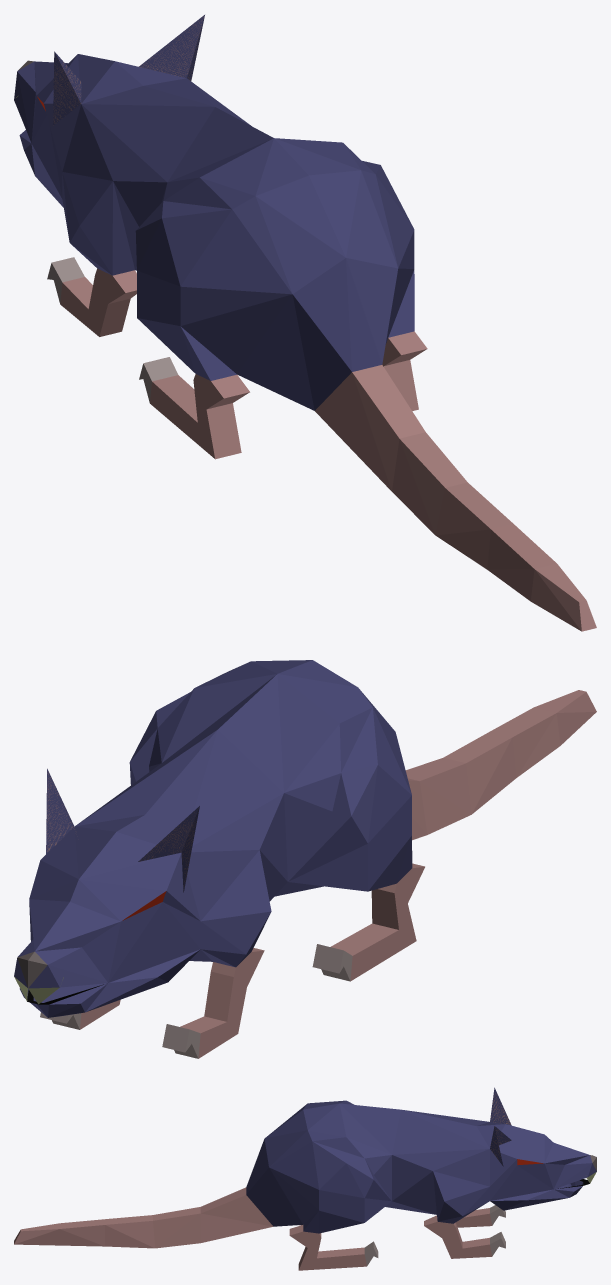
File: npc_world_giant_rat_4_0.obj
The picture shows the model from 3 angles, top to bottom: view 1: azimuth 30°, elevation 25°; view 2: azimuth 150°, elevation 25°; view 3: azimuth 270°, elevation 25°; orthographic projection. The views are drawn at different scales.
Bounding box in the file's own units: 0.4844 × 0.5312 × 2.
